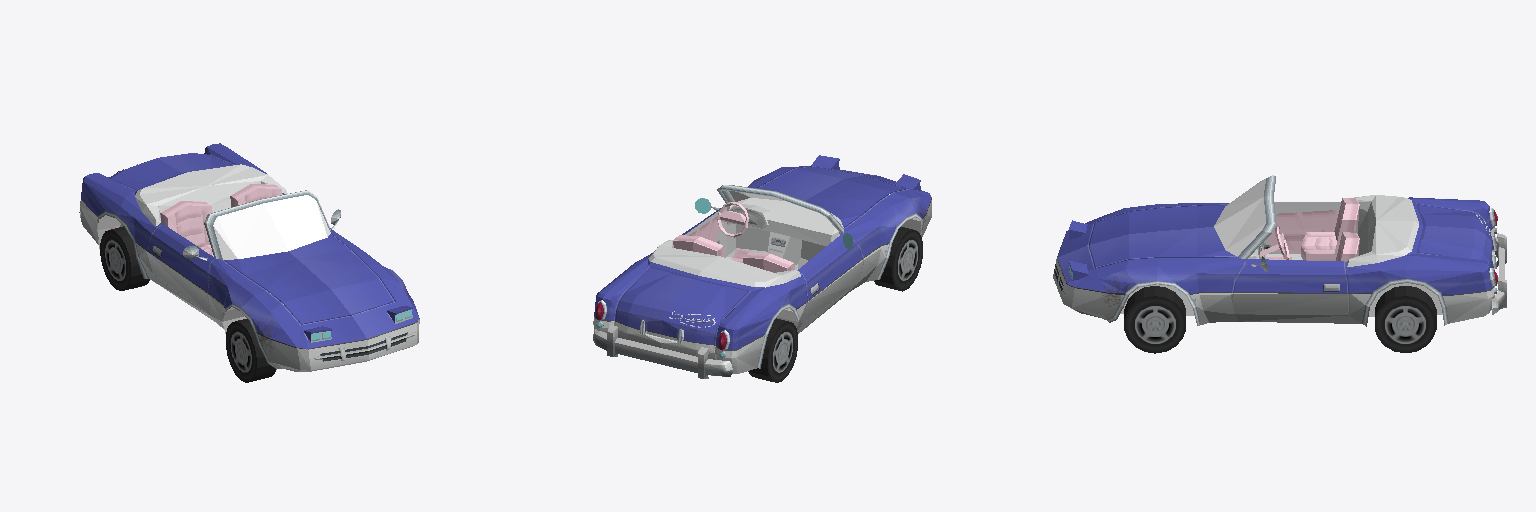
The picture shows the model from 3 angles: view 1: azimuth 30°, elevation 25°; view 2: azimuth 150°, elevation 25°; view 3: azimuth 270°, elevation 25°; orthographic projection.
Parts seen in each view (by area): view 1: MalibuStacyCar; view 2: MalibuStacyCar; view 3: MalibuStacyCar.
Boxes of the visible parts, x1,y1,x2,y2 form: MalibuStacyCar: [79, 143, 419, 382]; MalibuStacyCar: [593, 155, 931, 382]; MalibuStacyCar: [1053, 175, 1506, 353].
Bounding box in the file's own units: 2.1 × 1.53 × 5.21.
10 materials, 7 textured.